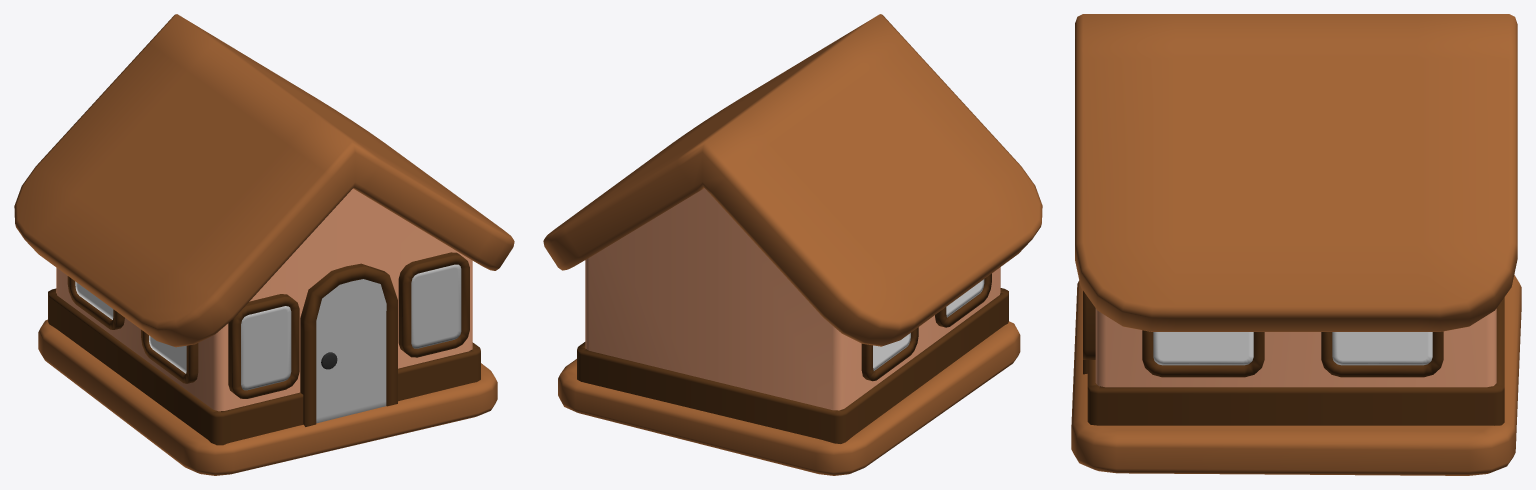
The model's file is house.glb.
3 renders of one model, left to right at view 1: azimuth 30°, elevation 25°; view 2: azimuth 150°, elevation 25°; view 3: azimuth 270°, elevation 25°, orthographic. The views are drawn at different scales.
Visible parts, largest first — view 1: Roof, Floor, Walls, Foundation, Door, FrontGlass, FrontWindow, DoorArch, FirstLevelGlass, SecondLevelGlass, FirstLevelWindow; view 2: Roof, Walls, Floor, Foundation, SecondLevelGlass, FirstLevelGlass, SecondLevelWindow; view 3: Roof, Floor, Foundation, Walls, FirstLevelWindow, SecondLevelWindow, FirstLevelGlass, SecondLevelGlass, FrontWindow.
Boxes of the visible parts, box(x1,y1,x2,y2) form: Roof: box(14, 14, 514, 347); Floor: box(38, 319, 497, 475); Walls: box(56, 188, 472, 411); Foundation: box(48, 288, 480, 445); Door: box(316, 279, 386, 423); FrontGlass: box(241, 264, 461, 390); FrontWindow: box(228, 252, 469, 398); DoorArch: box(300, 263, 397, 426); FirstLevelGlass: box(141, 329, 198, 383); SecondLevelGlass: box(67, 276, 124, 329); FirstLevelWindow: box(149, 335, 186, 373); Roof: box(543, 14, 1042, 346); Walls: box(585, 188, 1000, 410); Floor: box(558, 321, 1020, 475); Foundation: box(577, 288, 1008, 443); SecondLevelGlass: box(861, 327, 918, 381); FirstLevelGlass: box(935, 273, 991, 327); SecondLevelWindow: box(873, 333, 910, 370); Roof: box(1075, 14, 1517, 331); Floor: box(1071, 275, 1521, 475); Foundation: box(1087, 297, 1504, 425); Walls: box(1095, 308, 1496, 387); FirstLevelWindow: box(1153, 332, 1253, 365); SecondLevelWindow: box(1332, 332, 1432, 365); FirstLevelGlass: box(1142, 330, 1264, 377); SecondLevelGlass: box(1321, 331, 1443, 377); FrontWindow: box(1083, 291, 1095, 359).
Size of the model in its own units: 2.3 by 1.84 by 2.02.
